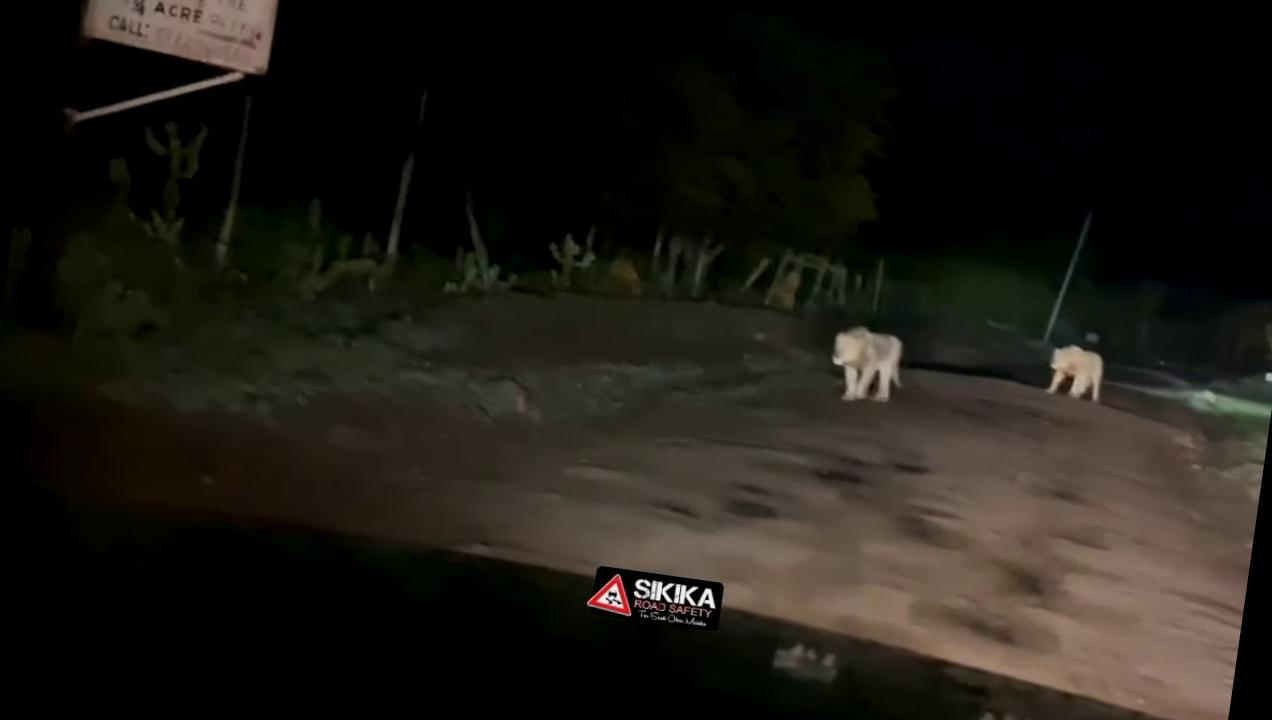lions: (1023, 328, 1122, 437), (812, 312, 910, 412)
